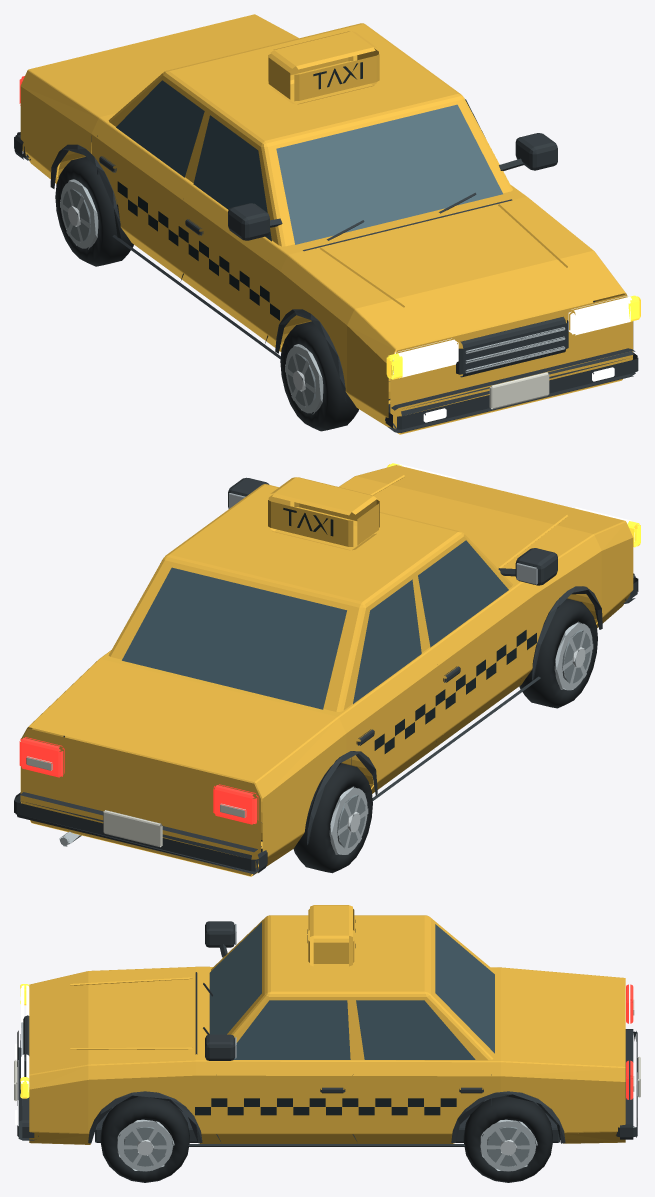
The model's file is taxi.glb.
The picture shows the model from 3 angles, top to bottom: view 1: azimuth 30°, elevation 25°; view 2: azimuth 150°, elevation 25°; view 3: azimuth 270°, elevation 25°; orthographic projection. The views are drawn at different scales.
Parts seen in each view (by area): view 1: BodyMesh_Paint_TaxiAmber, ShapeSafe_BodyMesh_Paint_TaxiAmber, ShapeSafe_BodyMesh_Glass_Reflection, BodyMesh_Trim_Graphite, ShapeSafe_BodyMesh_Glass_StylizedOpaque, Wheel_FR.003_Mesh_Rubber_Tires, Wheel_RR.003_Mesh_Rubber_Tires, ShapeSafe_BodyMesh_Trim_Graphite, BodyMesh_Decal_Charcoal, Headlamp_L.003, Headlamp_R.003, BodyMesh_Plate_Bone (+5 smaller); view 2: BodyMesh_Paint_TaxiAmber, ShapeSafe_BodyMesh_Glass_StylizedOpaque, ShapeSafe_BodyMesh_Paint_TaxiAmber, BodyMesh_Trim_Graphite, Wheel_RR.003_Mesh_Rubber_Tires, Wheel_FR.003_Mesh_Rubber_Tires, BodyMesh_Decal_Charcoal, BodyMesh_Plate_Bone, ShapeSafe_BodyMesh_Trim_Graphite, TailLamp_1.003, TailLamp_-1.003, Wheel_FR.003_Mesh_Metal_SatinAluminum (+4 smaller); view 3: BodyMesh_Paint_TaxiAmber, ShapeSafe_BodyMesh_Glass_StylizedOpaque, ShapeSafe_BodyMesh_Paint_TaxiAmber, BodyMesh_Trim_Graphite, Wheel_RL.003_Mesh_Rubber_Tires, Wheel_FL.003_Mesh_Rubber_Tires, ShapeSafe_BodyMesh_Glass_Reflection, BodyMesh_Decal_Charcoal, ShapeSafe_BodyMesh_Trim_Graphite, Wheel_FL.003_Mesh_Metal_SatinAluminum, Wheel_RL.003_Mesh_Metal_SatinAluminum, Wheel_FL.003_Mesh_Brake_Disc (+1 smaller).
Boxes of the visible parts, box(x1,y1,x2,y2) form: BodyMesh_Paint_TaxiAmber: box(20, 14, 633, 434); ShapeSafe_BodyMesh_Paint_TaxiAmber: box(108, 23, 512, 246); ShapeSafe_BodyMesh_Glass_Reflection: box(276, 104, 502, 244); BodyMesh_Trim_Graphite: box(14, 132, 638, 432); ShapeSafe_BodyMesh_Glass_StylizedOpaque: box(116, 80, 485, 241); Wheel_FR.003_Mesh_Rubber_Tires: box(280, 321, 358, 431); Wheel_RR.003_Mesh_Rubber_Tires: box(55, 157, 133, 266); ShapeSafe_BodyMesh_Trim_Graphite: box(228, 133, 557, 240); BodyMesh_Decal_Charcoal: box(117, 62, 362, 320); Headlamp_L.003: box(568, 295, 631, 335); Headlamp_R.003: box(393, 338, 458, 378); BodyMesh_Plate_Bone: box(489, 372, 549, 409); BodyMesh_Paint_TaxiAmber: box(20, 465, 633, 876); ShapeSafe_BodyMesh_Glass_StylizedOpaque: box(122, 540, 508, 709); ShapeSafe_BodyMesh_Paint_TaxiAmber: box(108, 484, 512, 711); BodyMesh_Trim_Graphite: box(14, 568, 638, 874); Wheel_RR.003_Mesh_Rubber_Tires: box(293, 763, 372, 873); Wheel_FR.003_Mesh_Rubber_Tires: box(519, 598, 597, 708); BodyMesh_Decal_Charcoal: box(283, 508, 536, 753); BodyMesh_Plate_Bone: box(26, 756, 246, 847); ShapeSafe_BodyMesh_Trim_Graphite: box(228, 477, 557, 585); TailLamp_1.003: box(19, 737, 64, 777); TailLamp_-1.003: box(213, 784, 258, 824); Wheel_FR.003_Mesh_Metal_SatinAluminum: box(554, 621, 593, 690); BodyMesh_Paint_TaxiAmber: box(29, 905, 625, 1144); ShapeSafe_BodyMesh_Glass_StylizedOpaque: box(233, 924, 494, 1059); ShapeSafe_BodyMesh_Paint_TaxiAmber: box(211, 915, 493, 1060); BodyMesh_Trim_Graphite: box(17, 944, 637, 1146); Wheel_RL.003_Mesh_Rubber_Tires: box(463, 1096, 552, 1182); Wheel_FL.003_Mesh_Rubber_Tires: box(100, 1096, 189, 1182); ShapeSafe_BodyMesh_Glass_Reflection: box(209, 922, 261, 1034); BodyMesh_Decal_Charcoal: box(195, 920, 456, 1115); ShapeSafe_BodyMesh_Trim_Graphite: box(205, 921, 234, 1060); Wheel_FL.003_Mesh_Metal_SatinAluminum: box(117, 1119, 174, 1171); Wheel_RL.003_Mesh_Metal_SatinAluminum: box(480, 1119, 537, 1171); Wheel_FL.003_Mesh_Brake_Disc: box(124, 1127, 166, 1166).
Bounding box in the file's own units: 2.25 × 1.79 × 4.78.
